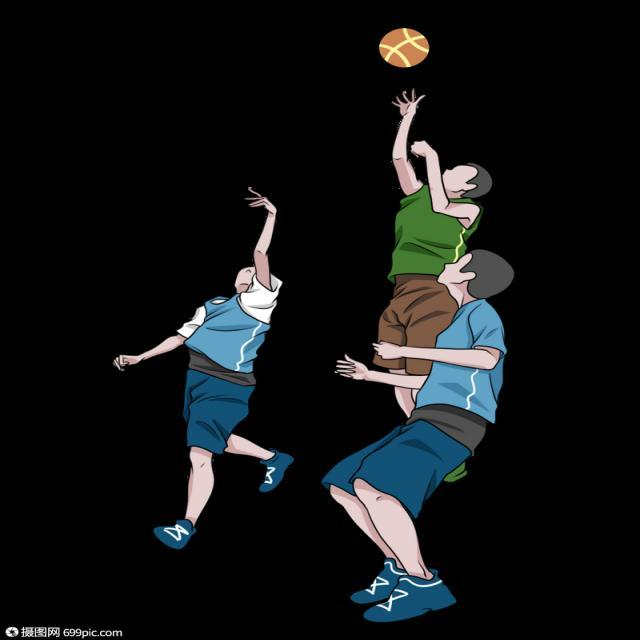rim: (371, 27, 434, 66)
